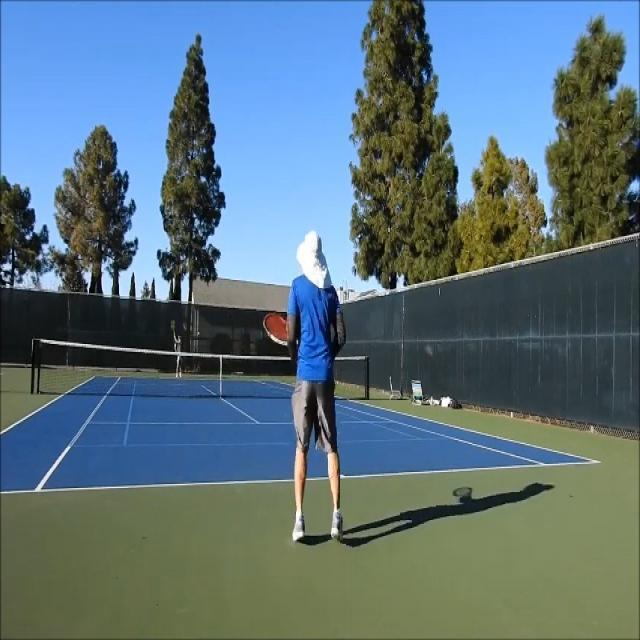court: (0, 378, 602, 494)
net: (29, 338, 370, 404)
player: (262, 231, 346, 544)
